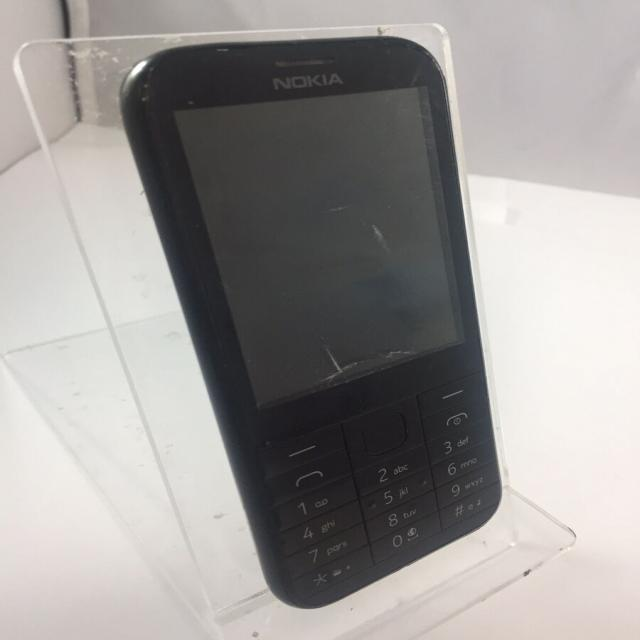mobile phone: (117, 32, 506, 610)
